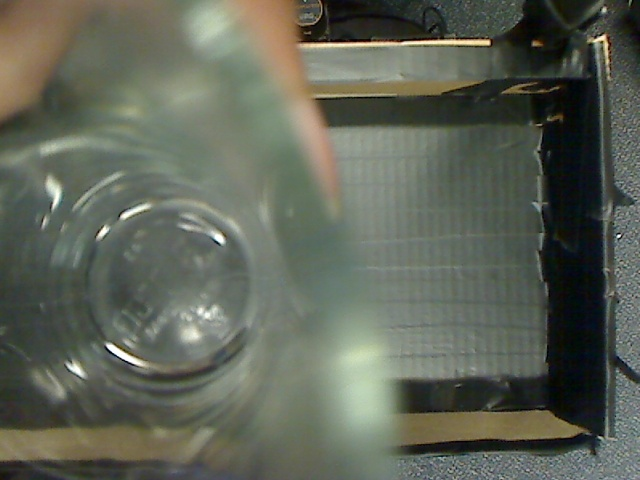cup: (1, 9, 438, 467)
